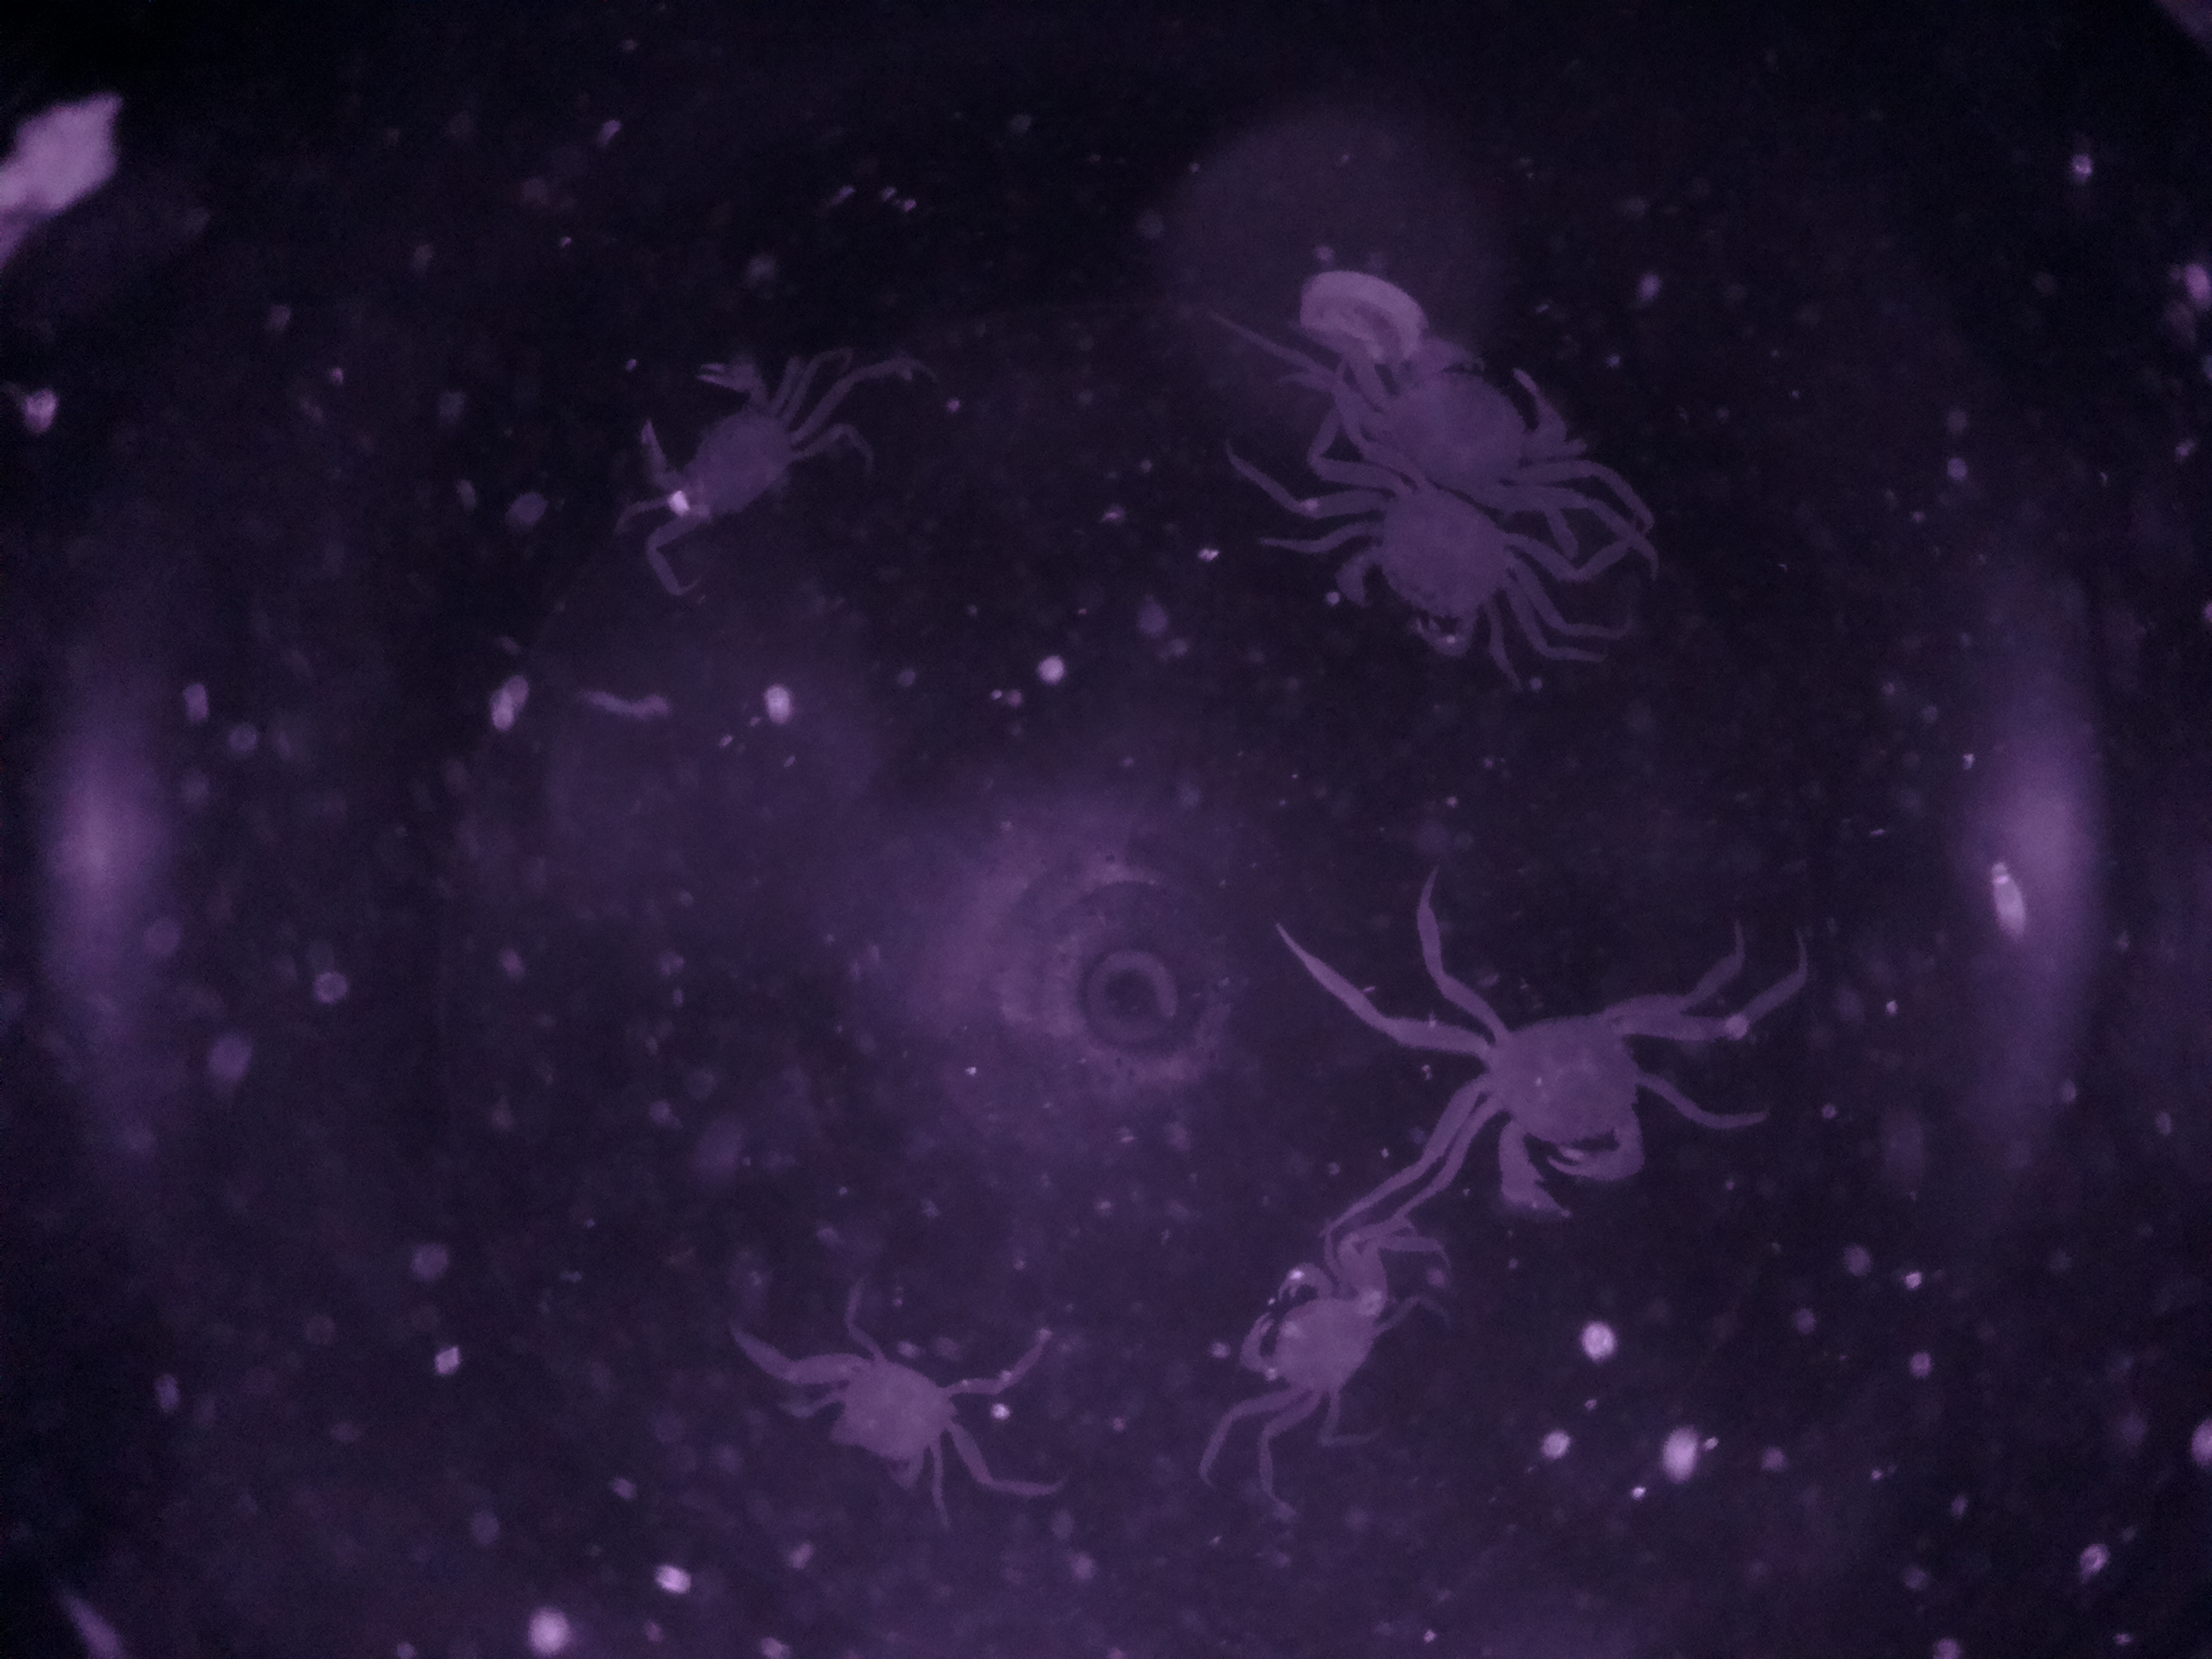Crab: (1411, 985, 1754, 1222), (1306, 469, 1547, 678), (1209, 1241, 1423, 1452), (784, 1310, 988, 1509)
